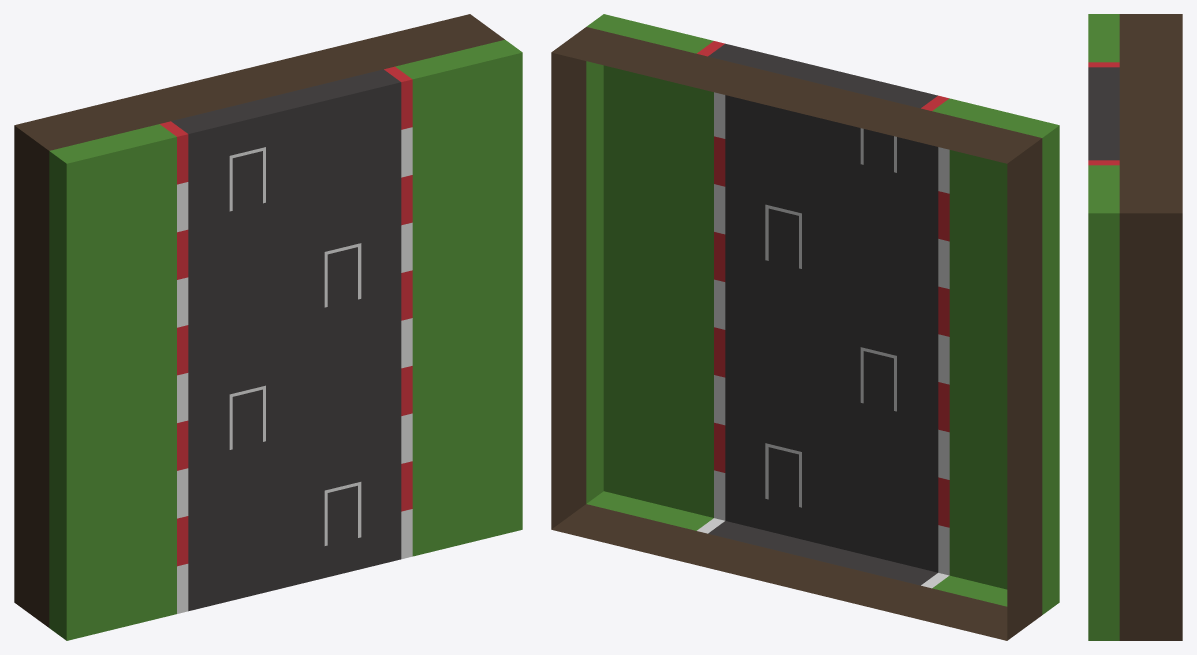
The model's file is race_start.glb.
The picture shows the model from 3 angles, left to right: view 1: azimuth 30°, elevation 25°; view 2: azimuth 150°, elevation 25°; view 3: azimuth 270°, elevation 25°; orthographic projection. The views are drawn at different scales.
Parts seen in each view (by area): view 1: tile-race-track-start-grid; view 2: tile-race-track-start-grid; view 3: tile-race-track-start-grid.
Part boxes in pixels (<box>): tile-race-track-start-grid: <box>14,14,522,640</box>; tile-race-track-start-grid: <box>551,14,1059,640</box>; tile-race-track-start-grid: <box>1088,14,1182,640</box>.
Bounding box in the file's own units: 30 × 30 × 6.
1 material, 1 textured.
